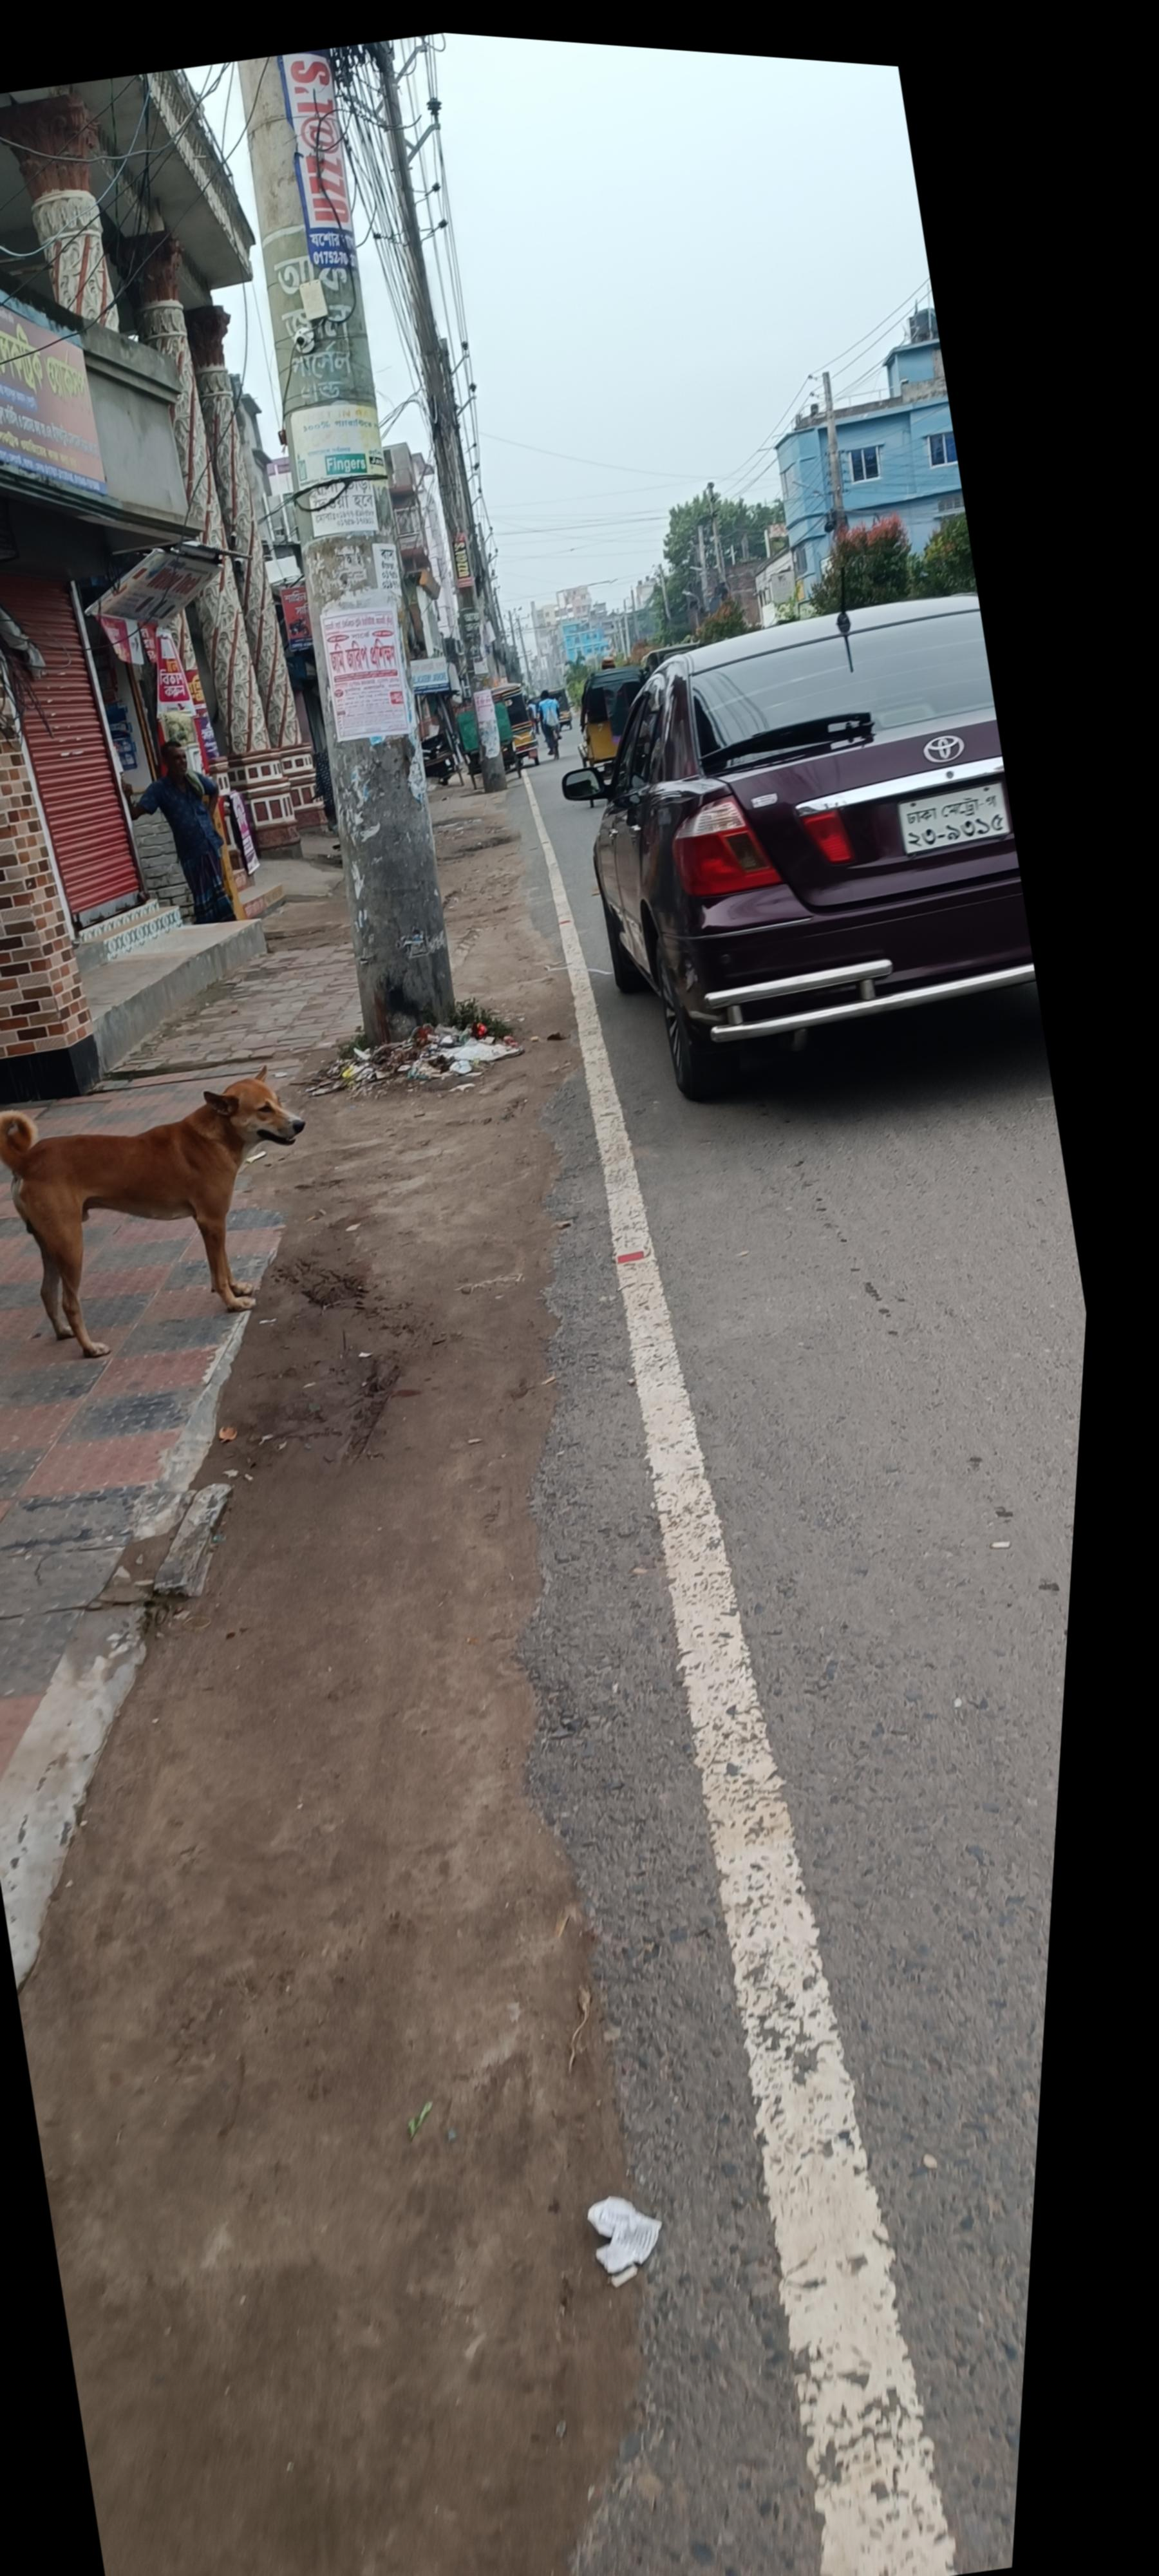Broken-road: (259, 647, 842, 1303)
Crosswalk: (0, 1173, 115, 1511)
Dog: (356, 2300, 451, 2405)
Garbage-bin: (289, 805, 332, 881), (0, 858, 10, 1060)
Light-pole: (0, 168, 286, 1176)
Pothole: (0, 851, 676, 2576)
